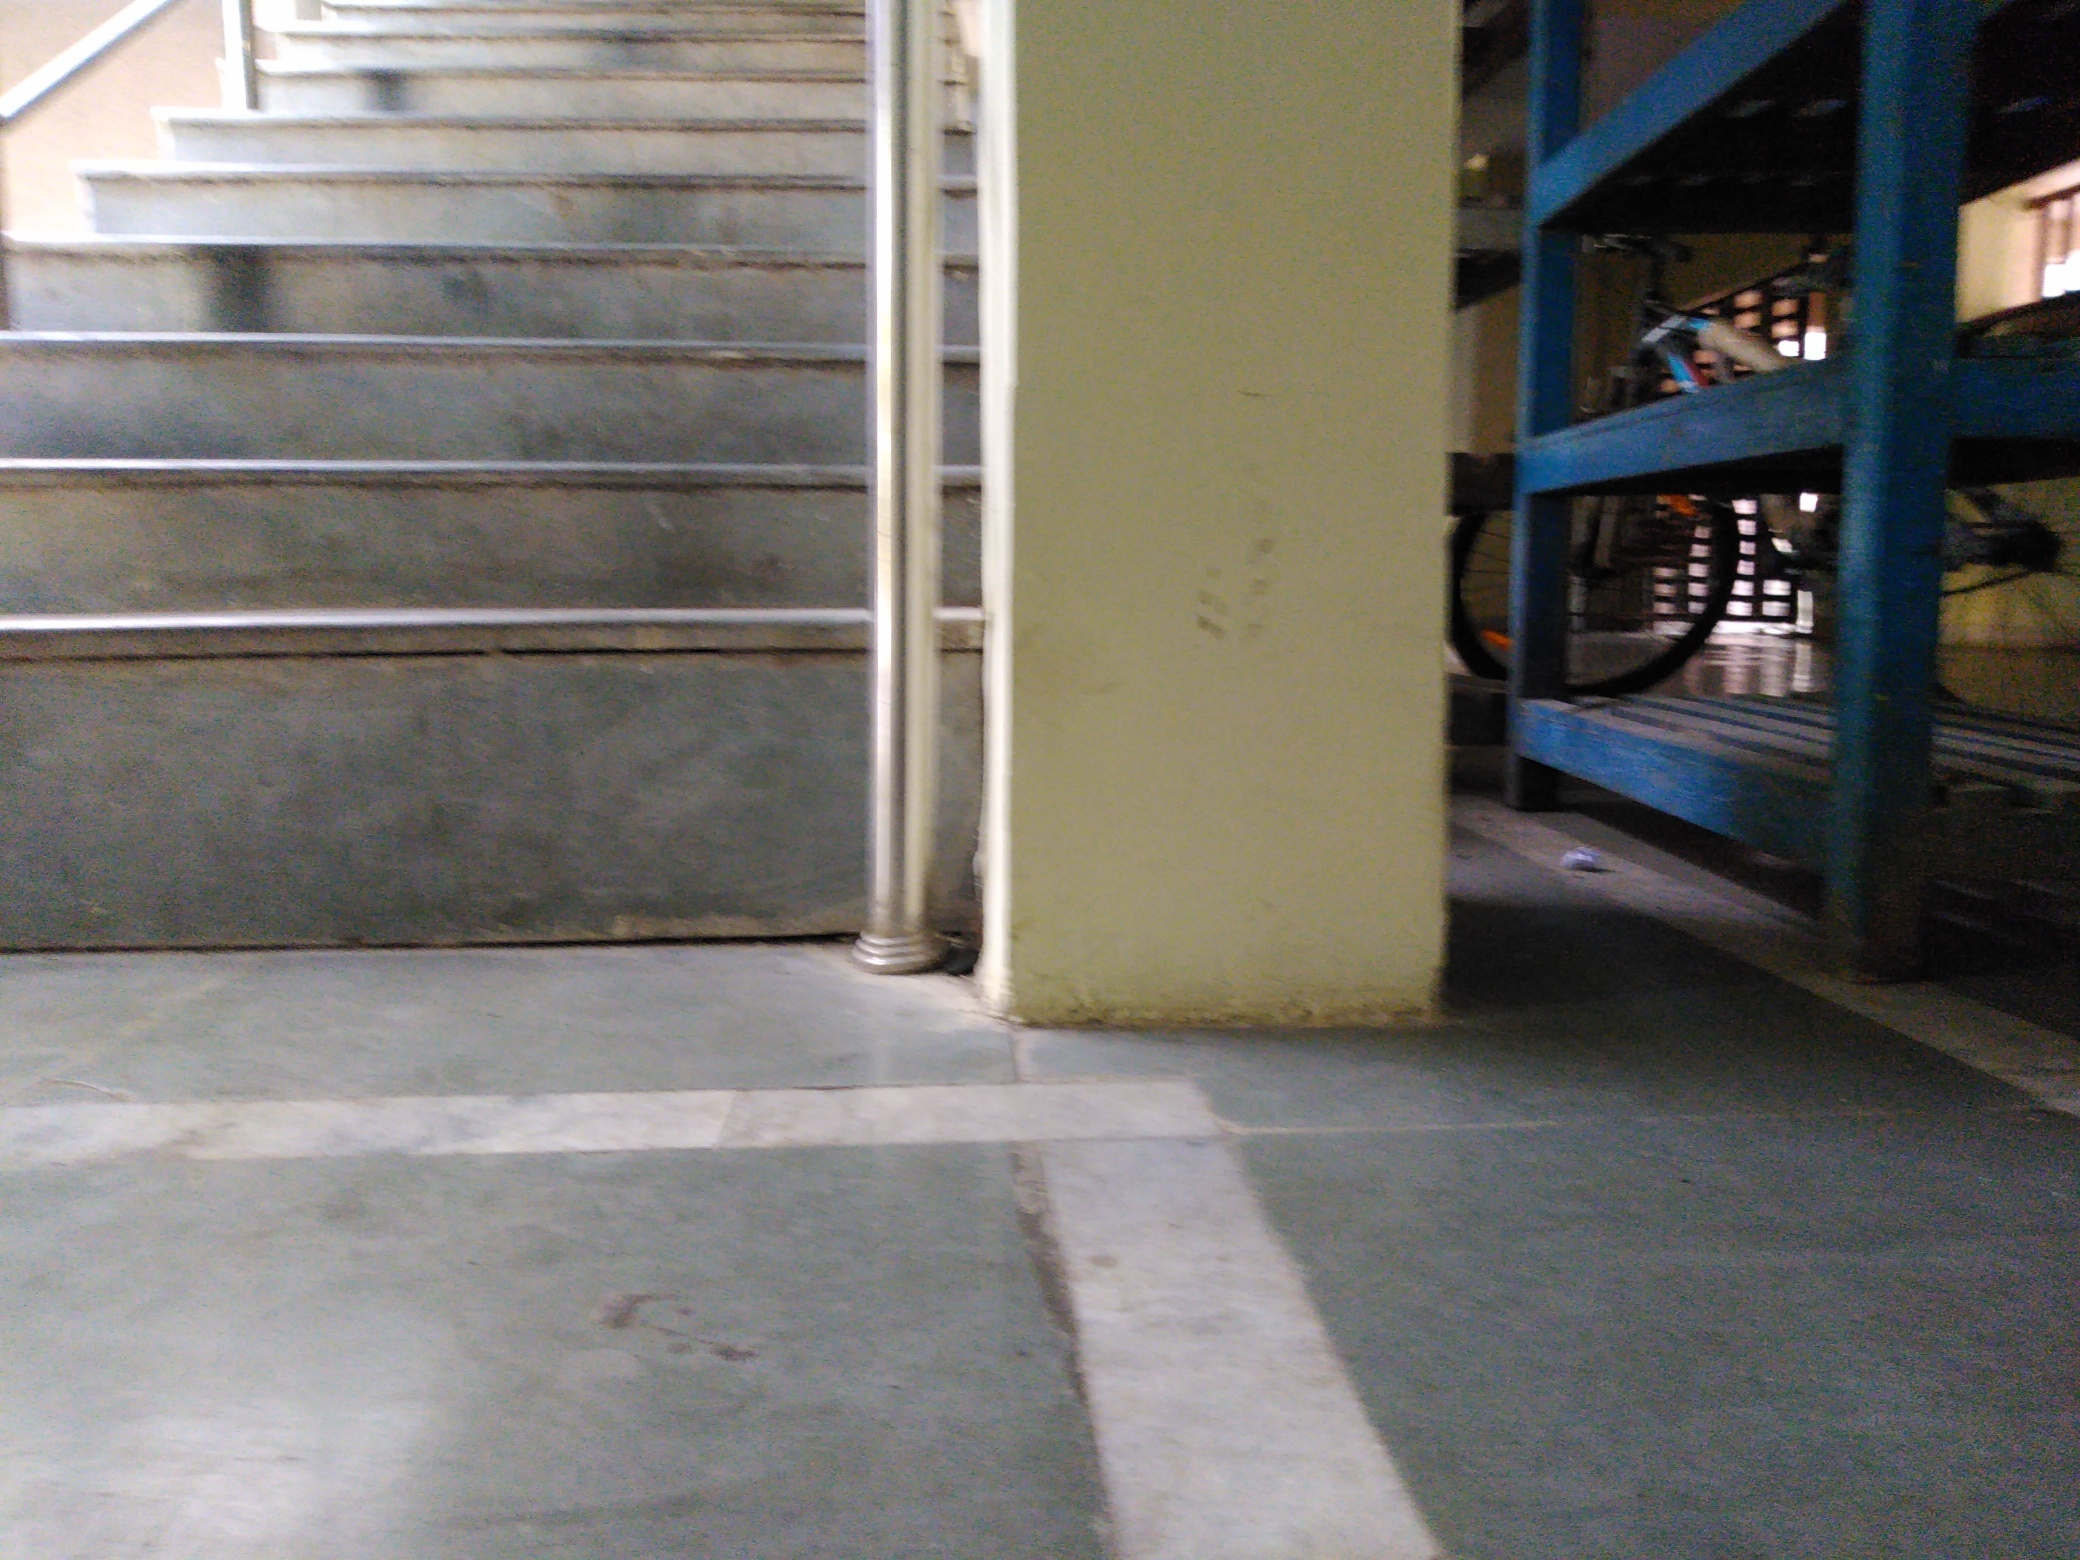stairs_up: (2, 5, 861, 955)
